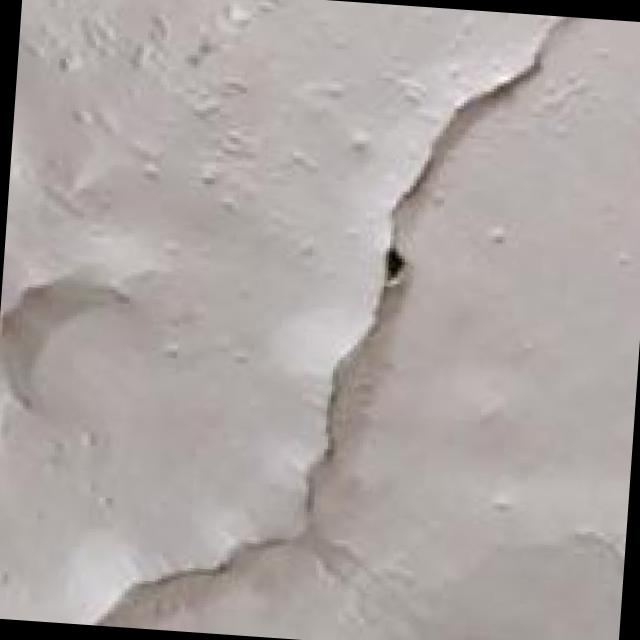crack: (94, 0, 588, 640)
